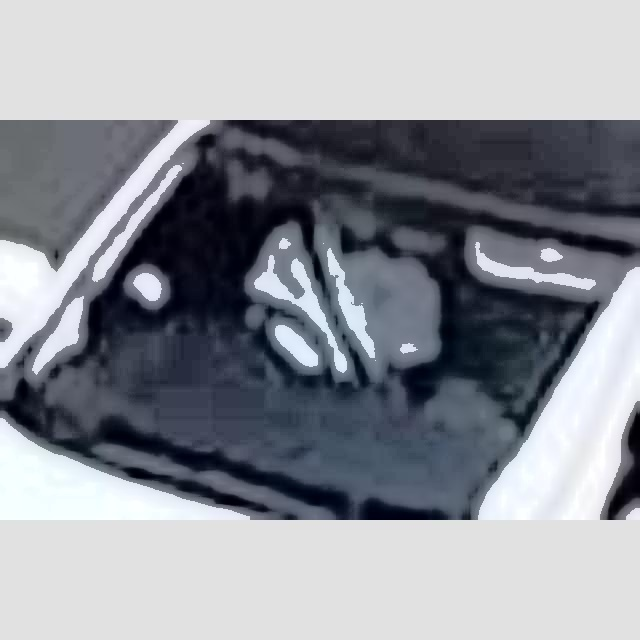pakai: (193, 200, 473, 393)
